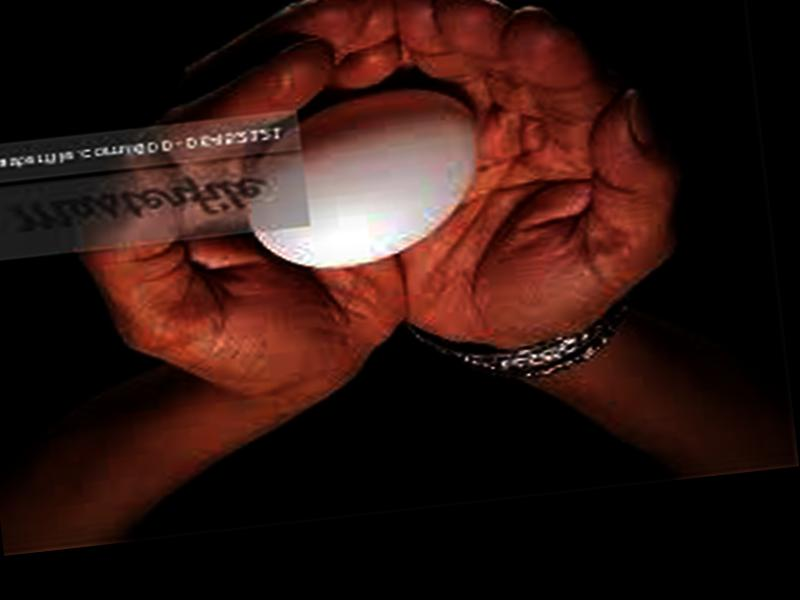Eggs: (236, 78, 492, 277)
